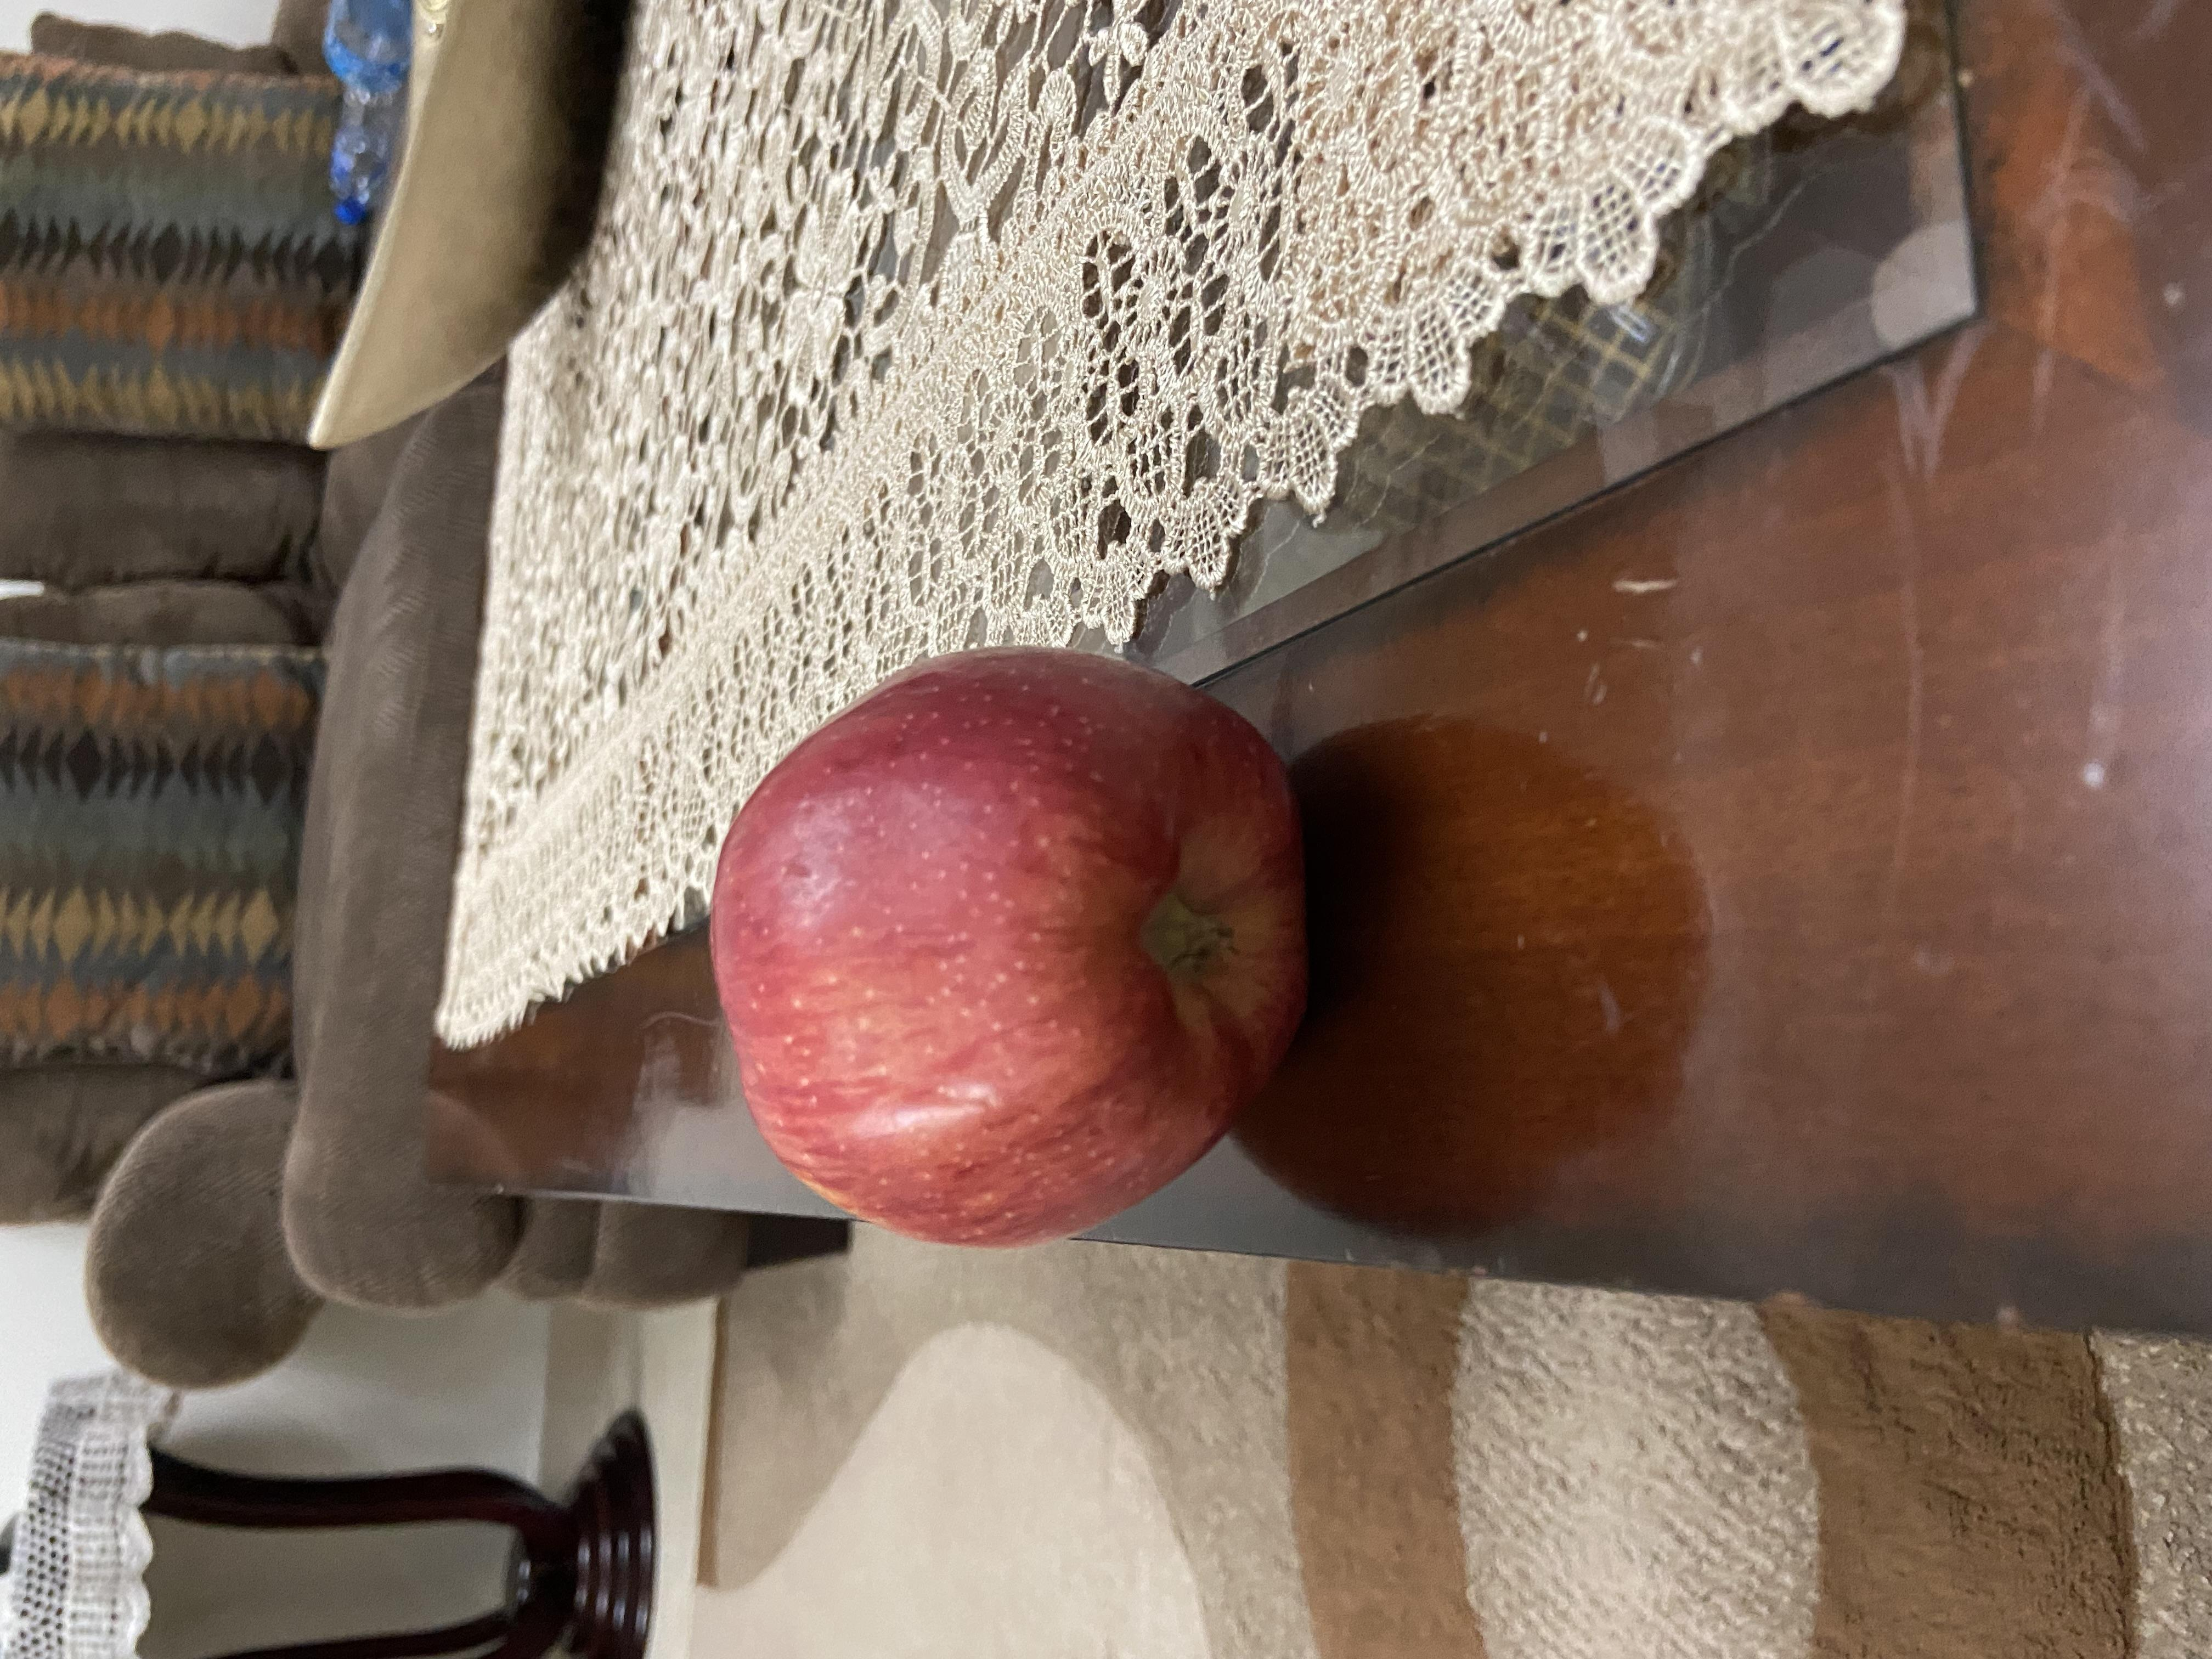Apple: (536, 523, 1369, 1000)
